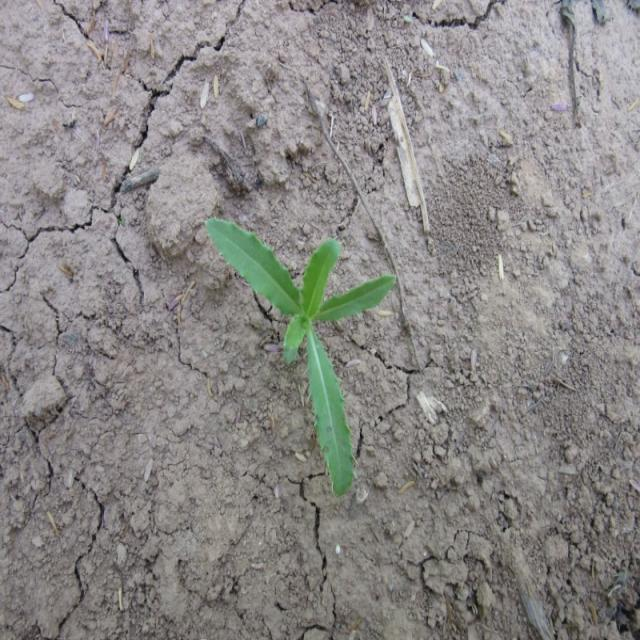field_thistle: (201, 202, 401, 490)
